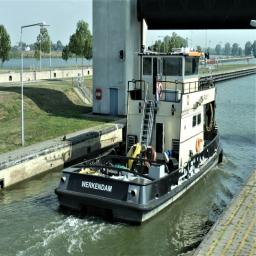tugboat: (55, 46, 226, 229)
